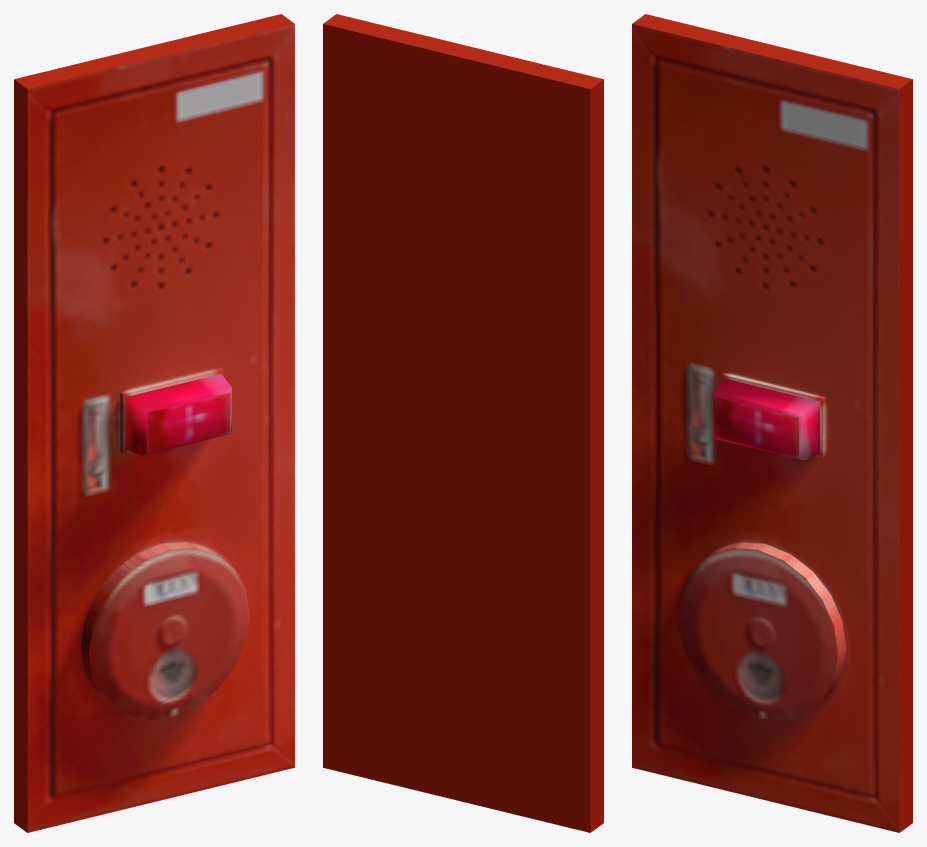
File: fireplugRed.gltf
The picture shows the model from 3 angles, left to right: view 1: azimuth 30°, elevation 25°; view 2: azimuth 150°, elevation 25°; view 3: azimuth 330°, elevation 25°; orthographic projection.
Parts seen in each view (by area): view 1: fireplug; view 2: fireplug; view 3: fireplug.
Part boxes in pixels (box(x1,y1,x2,y2)): fireplug: box(14, 14, 294, 832); fireplug: box(323, 14, 603, 832); fireplug: box(632, 14, 912, 832).
Size of the model in its own units: 3.6 by 9.58 by 0.732.
1 material, 1 textured.
